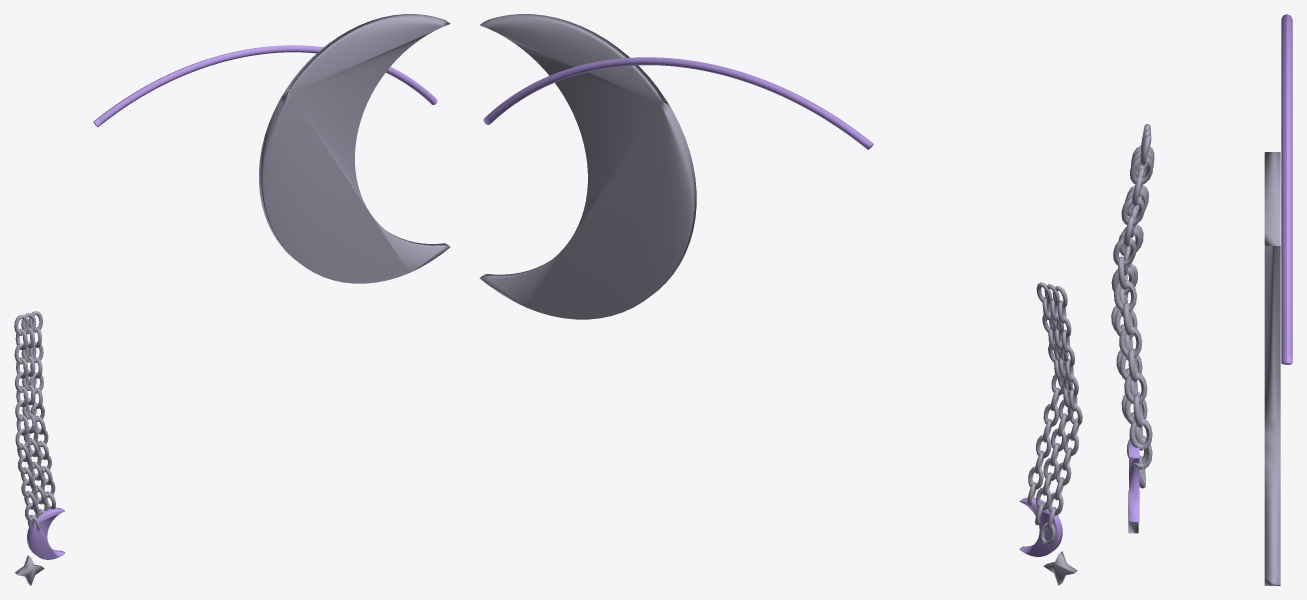
The model's file is echo_headpiece.glb.
The picture shows the model from 3 angles, left to right: view 1: azimuth 30°, elevation 25°; view 2: azimuth 150°, elevation 25°; view 3: azimuth 270°, elevation 25°; orthographic projection. The views are drawn at different scales.
Visible parts, largest first — view 1: echo_headpiece; view 2: echo_headpiece; view 3: echo_headpiece.
Boxes of the visible parts, x1,y1,x2,y2 form: echo_headpiece: (14,14,450,585); echo_headpiece: (479,14,1082,585); echo_headpiece: (1111,14,1292,585).
Size of the model in its own units: 0.8901 by 0.767 by 0.1912.
